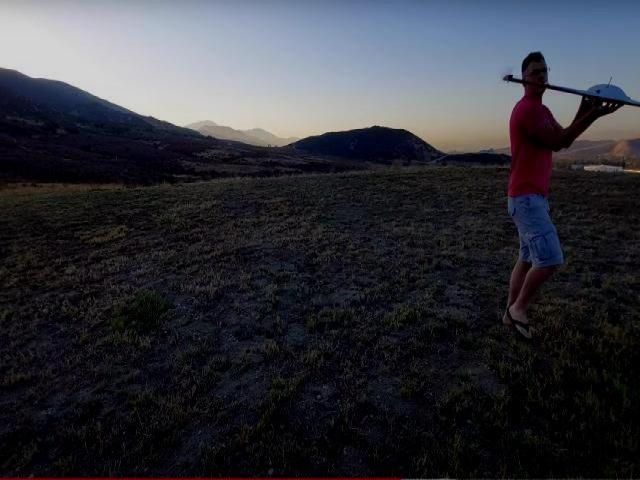iha: (504, 72, 640, 110)
